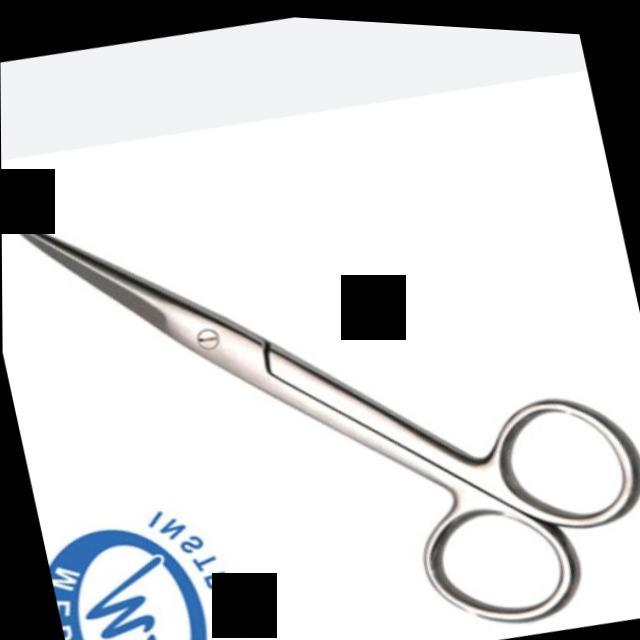Straight Mayo: (6, 97, 640, 640)
